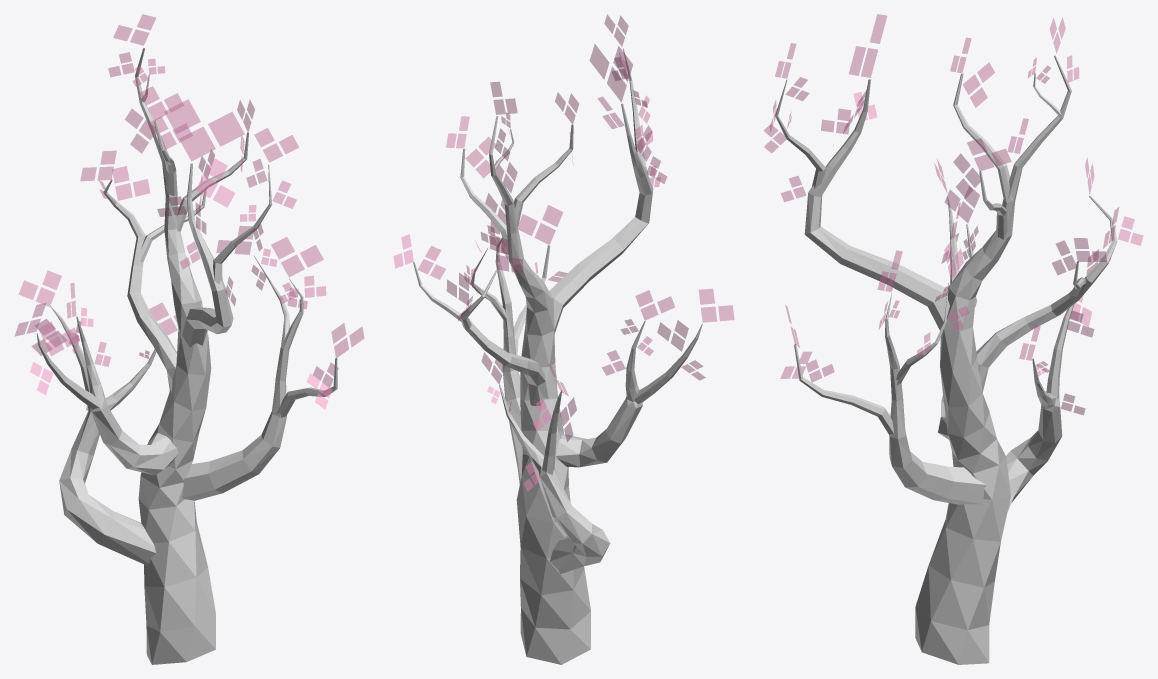
The model's file is deep_tree_03.fbx.
3 views of the same model, side by side, from view 1: azimuth 30°, elevation 25°; view 2: azimuth 150°, elevation 25°; view 3: azimuth 270°, elevation 25° (orthographic). The views are drawn at different scales.
Parts seen in each view (by area): view 1: BezierCurve.014; view 2: BezierCurve.014; view 3: BezierCurve.014.
Part boxes in pixels (bbox=[...]): BezierCurve.014: bbox=[14, 14, 364, 664]; BezierCurve.014: bbox=[393, 14, 734, 664]; BezierCurve.014: bbox=[763, 14, 1143, 664].
Size of the model in its own units: 155 by 316 by 169.
